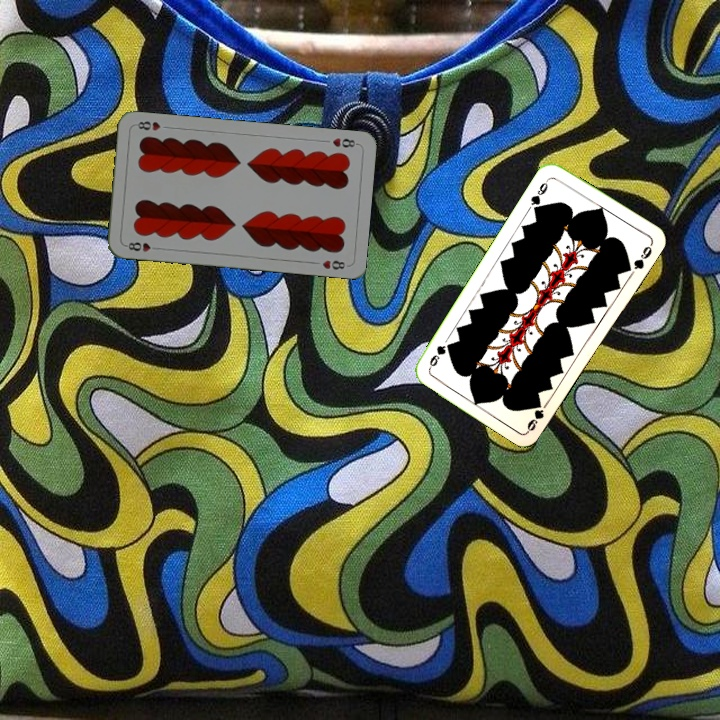G9: (527, 175, 552, 214), (523, 401, 547, 433)
H8: (121, 238, 162, 254), (328, 134, 361, 150)
